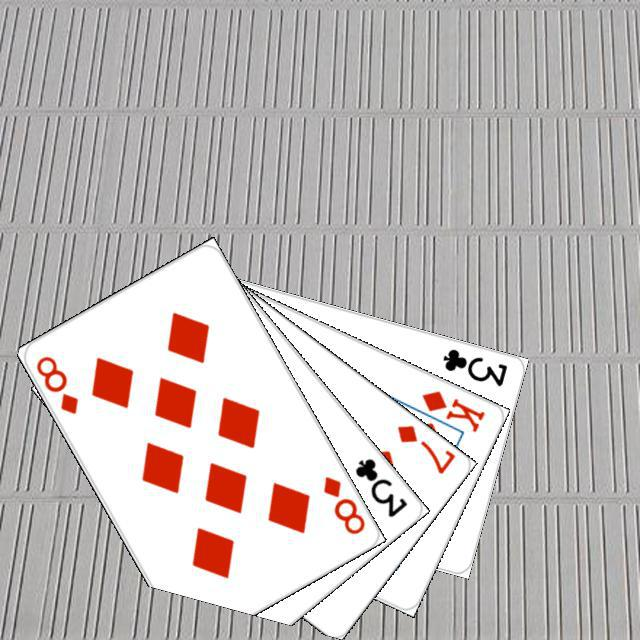3c: (350, 453, 410, 519), (437, 343, 509, 388)
7d: (391, 419, 456, 476)
8d: (318, 471, 367, 537), (31, 351, 80, 416)
Kd: (417, 385, 487, 434)
